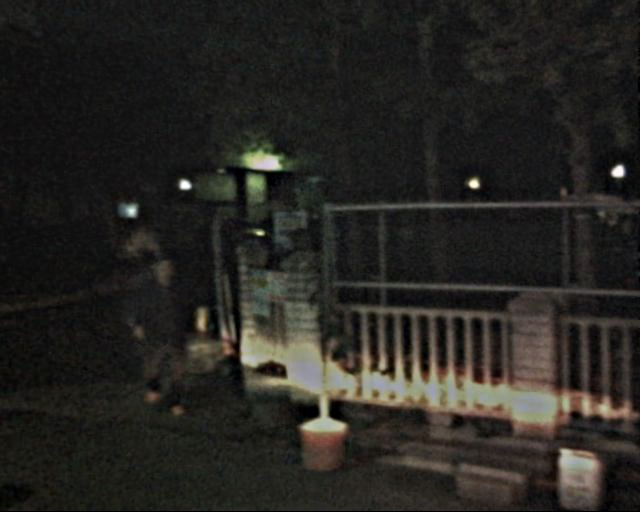person: (124, 241, 190, 417)
